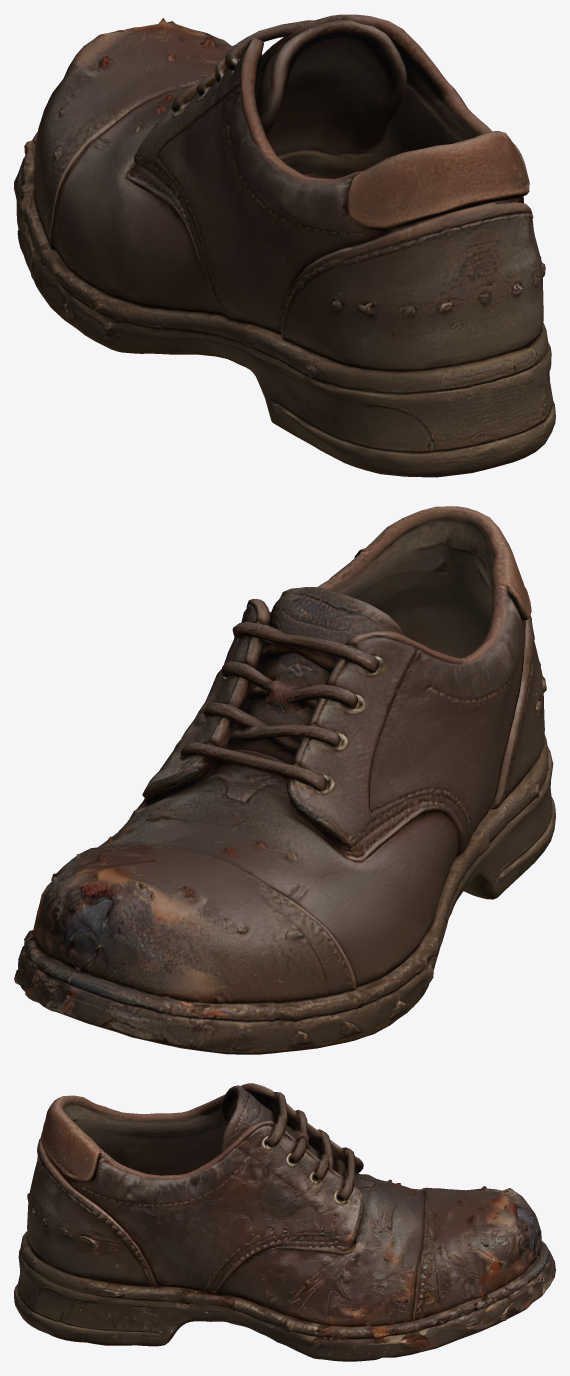
3 views of the same model, one above another, from view 1: azimuth 30°, elevation 25°; view 2: azimuth 150°, elevation 25°; view 3: azimuth 270°, elevation 25° (orthographic). The views are drawn at different scales.
Parts seen in each view (by area): view 1: tripo_node_2488c751-b239-4ed3-b65e-766fe045f606; view 2: tripo_node_2488c751-b239-4ed3-b65e-766fe045f606; view 3: tripo_node_2488c751-b239-4ed3-b65e-766fe045f606.
Boxes of the visible parts, x1,y1,x2,y2 form: tripo_node_2488c751-b239-4ed3-b65e-766fe045f606: (14,14,555,477); tripo_node_2488c751-b239-4ed3-b65e-766fe045f606: (14,506,555,1054); tripo_node_2488c751-b239-4ed3-b65e-766fe045f606: (14,1083,555,1361).
Bounding box in the file's own units: 0.4737 × 0.4524 × 1.
Materials: 1 (1 with a texture image).
